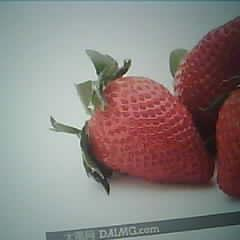straw-ripe: (85, 76, 217, 183)
